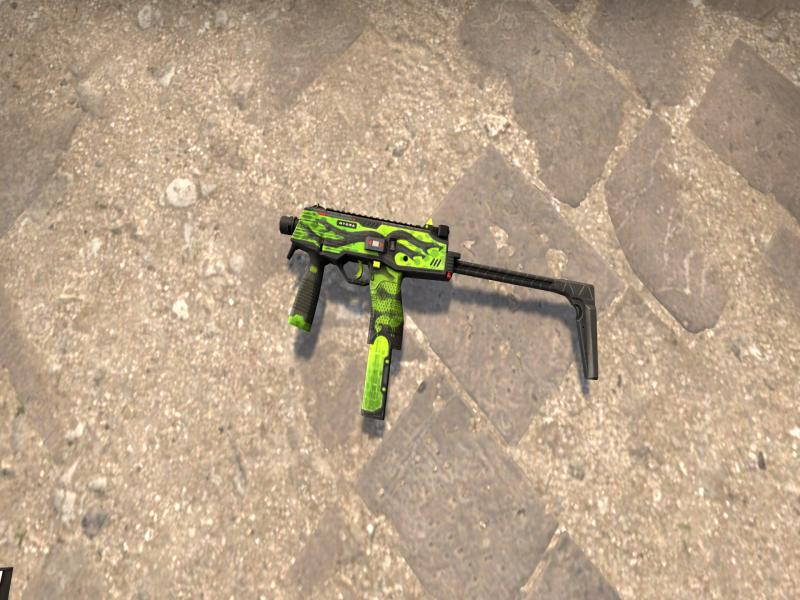MP9: (280, 204, 599, 419)
